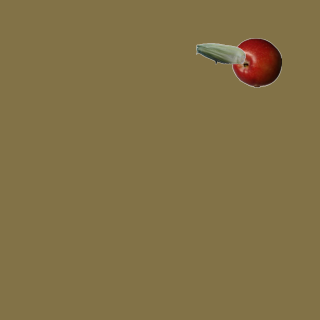Apple Braeburn: (231, 37, 281, 87)
Corn Husk: (195, 28, 245, 78)
